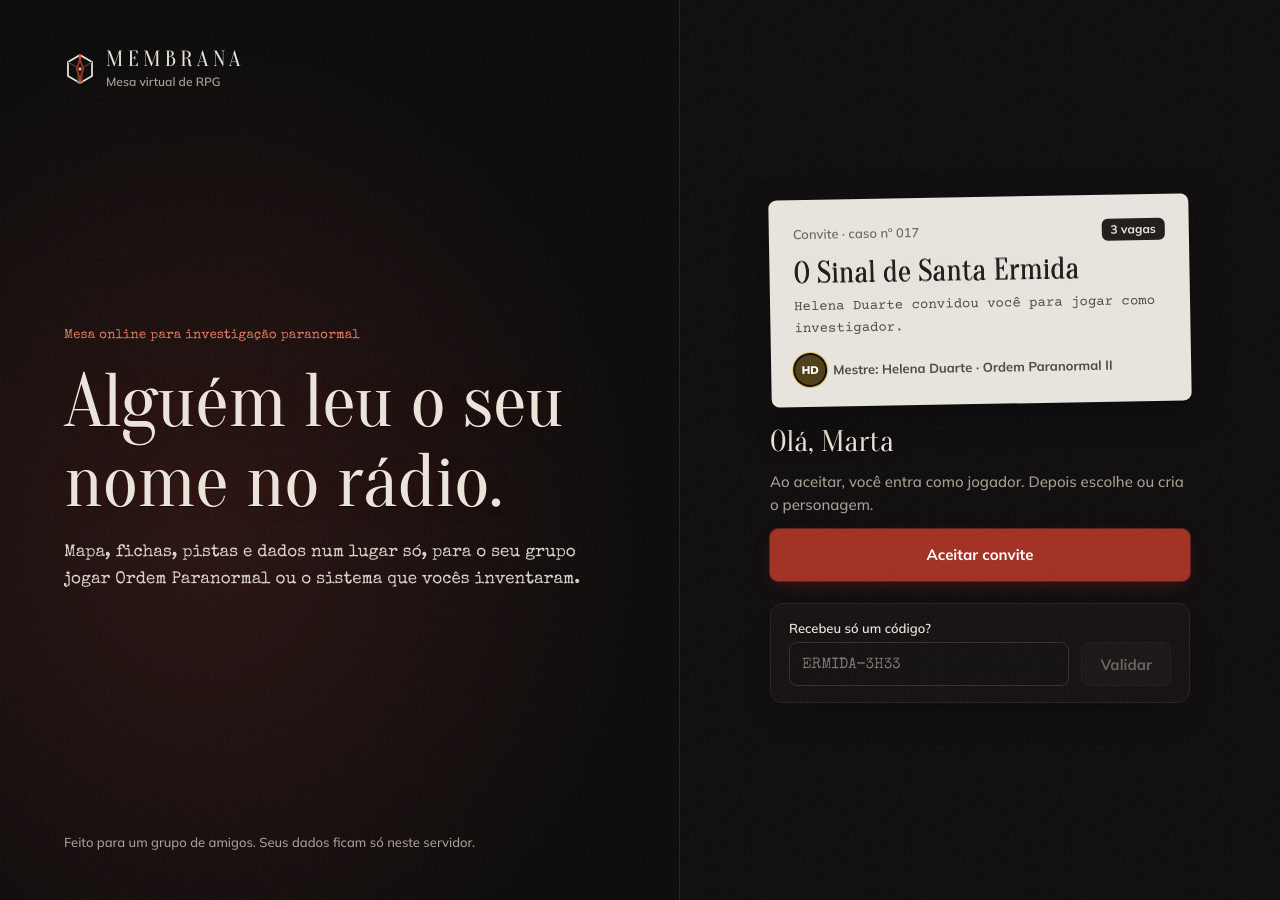
Test: com login › aceitar leva a Personagens, para criar o personagem do caso
What coordinates should you click on to do the following:
click the button "Aceitar convite"
I would click on:
 (980, 555)
Its box is [770,529,1190,581].
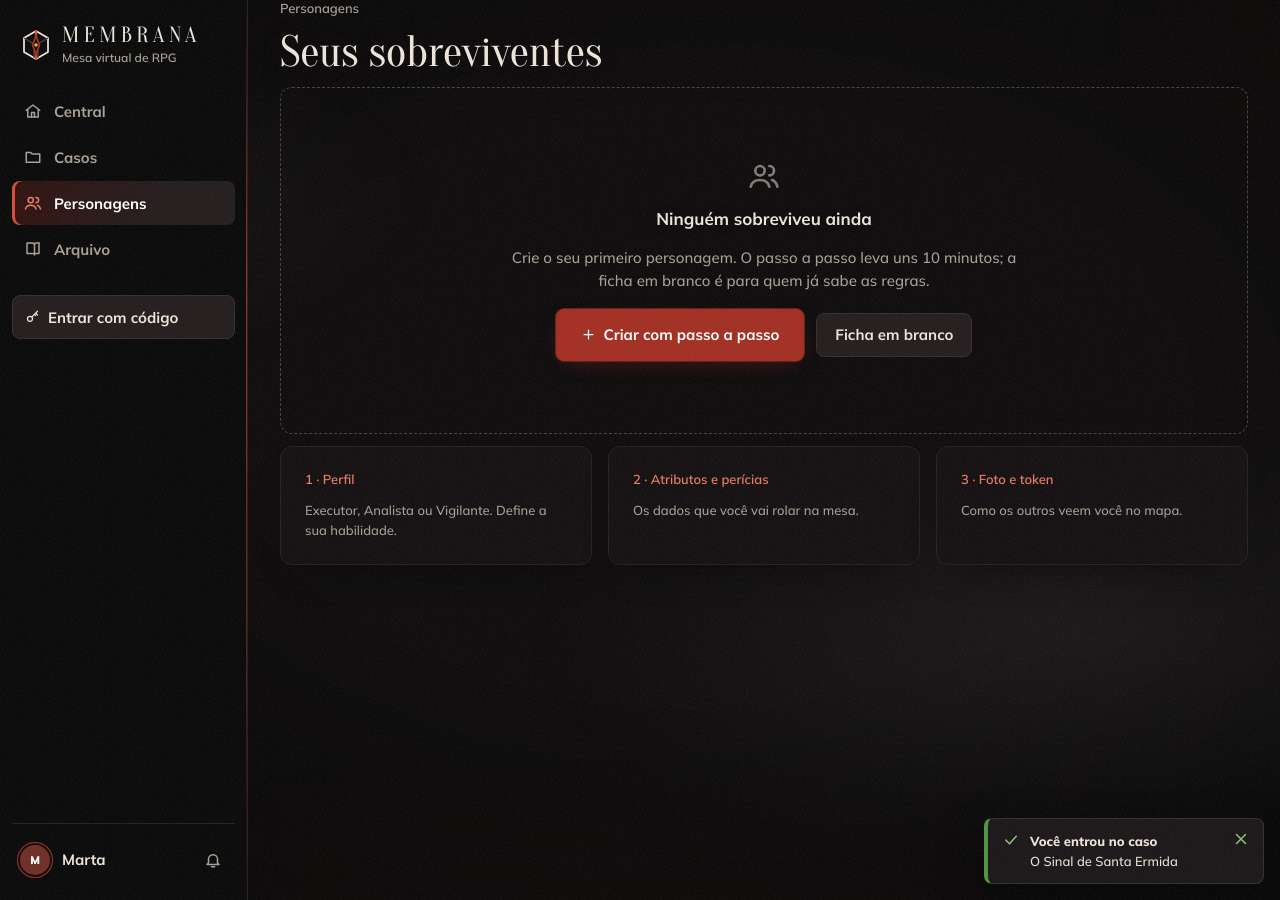
expect the text "Você entrou no caso" is shown: met, box [1030,833,1158,849]
